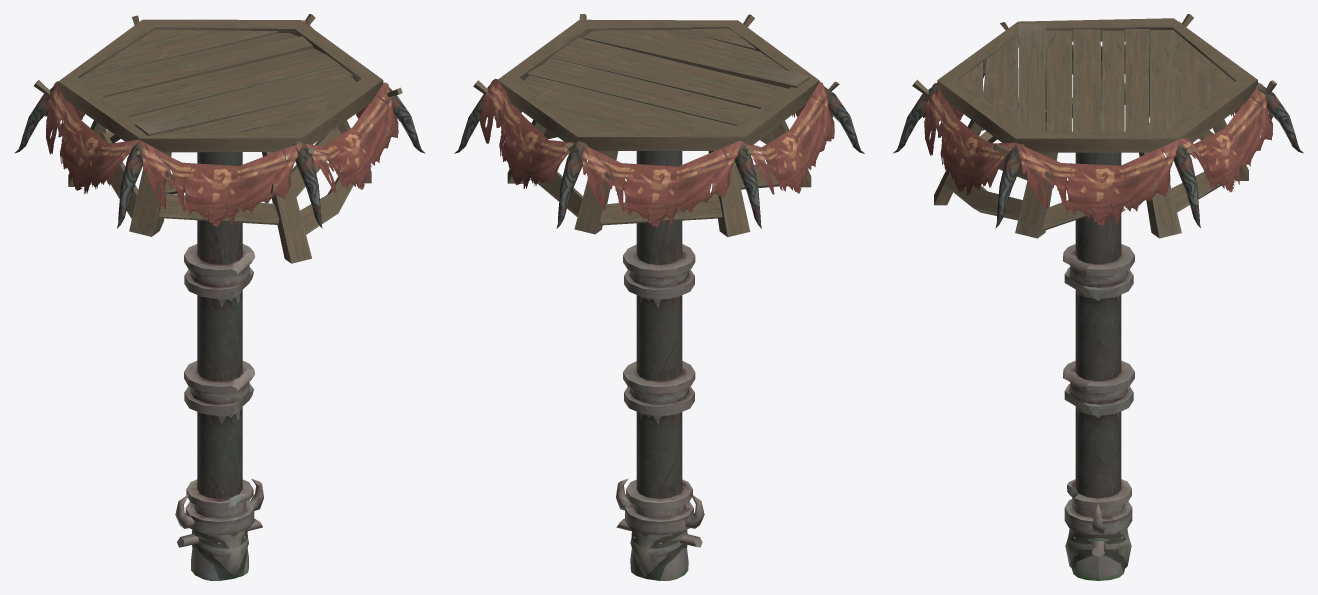
Rendered from Area_Common_Build_Hili_Platform_02_Lod0.fbx.
The picture shows the model from 3 angles, left to right: view 1: azimuth 30°, elevation 25°; view 2: azimuth 150°, elevation 25°; view 3: azimuth 270°, elevation 25°; orthographic projection.
Parts seen in each view (by area): view 1: Area_Common_Build_Hili_Platform_02_Lod0; view 2: Area_Common_Build_Hili_Platform_02_Lod0; view 3: Area_Common_Build_Hili_Platform_02_Lod0.
Boxes of the visible parts, x1,y1,x2,y2 form: Area_Common_Build_Hili_Platform_02_Lod0: (15,14,425,580); Area_Common_Build_Hili_Platform_02_Lod0: (454,14,864,580); Area_Common_Build_Hili_Platform_02_Lod0: (893,14,1303,580).
Bounding box in the file's own units: 7.13 × 10.86 × 8.23.
Materials: 2 (2 with a texture image).
